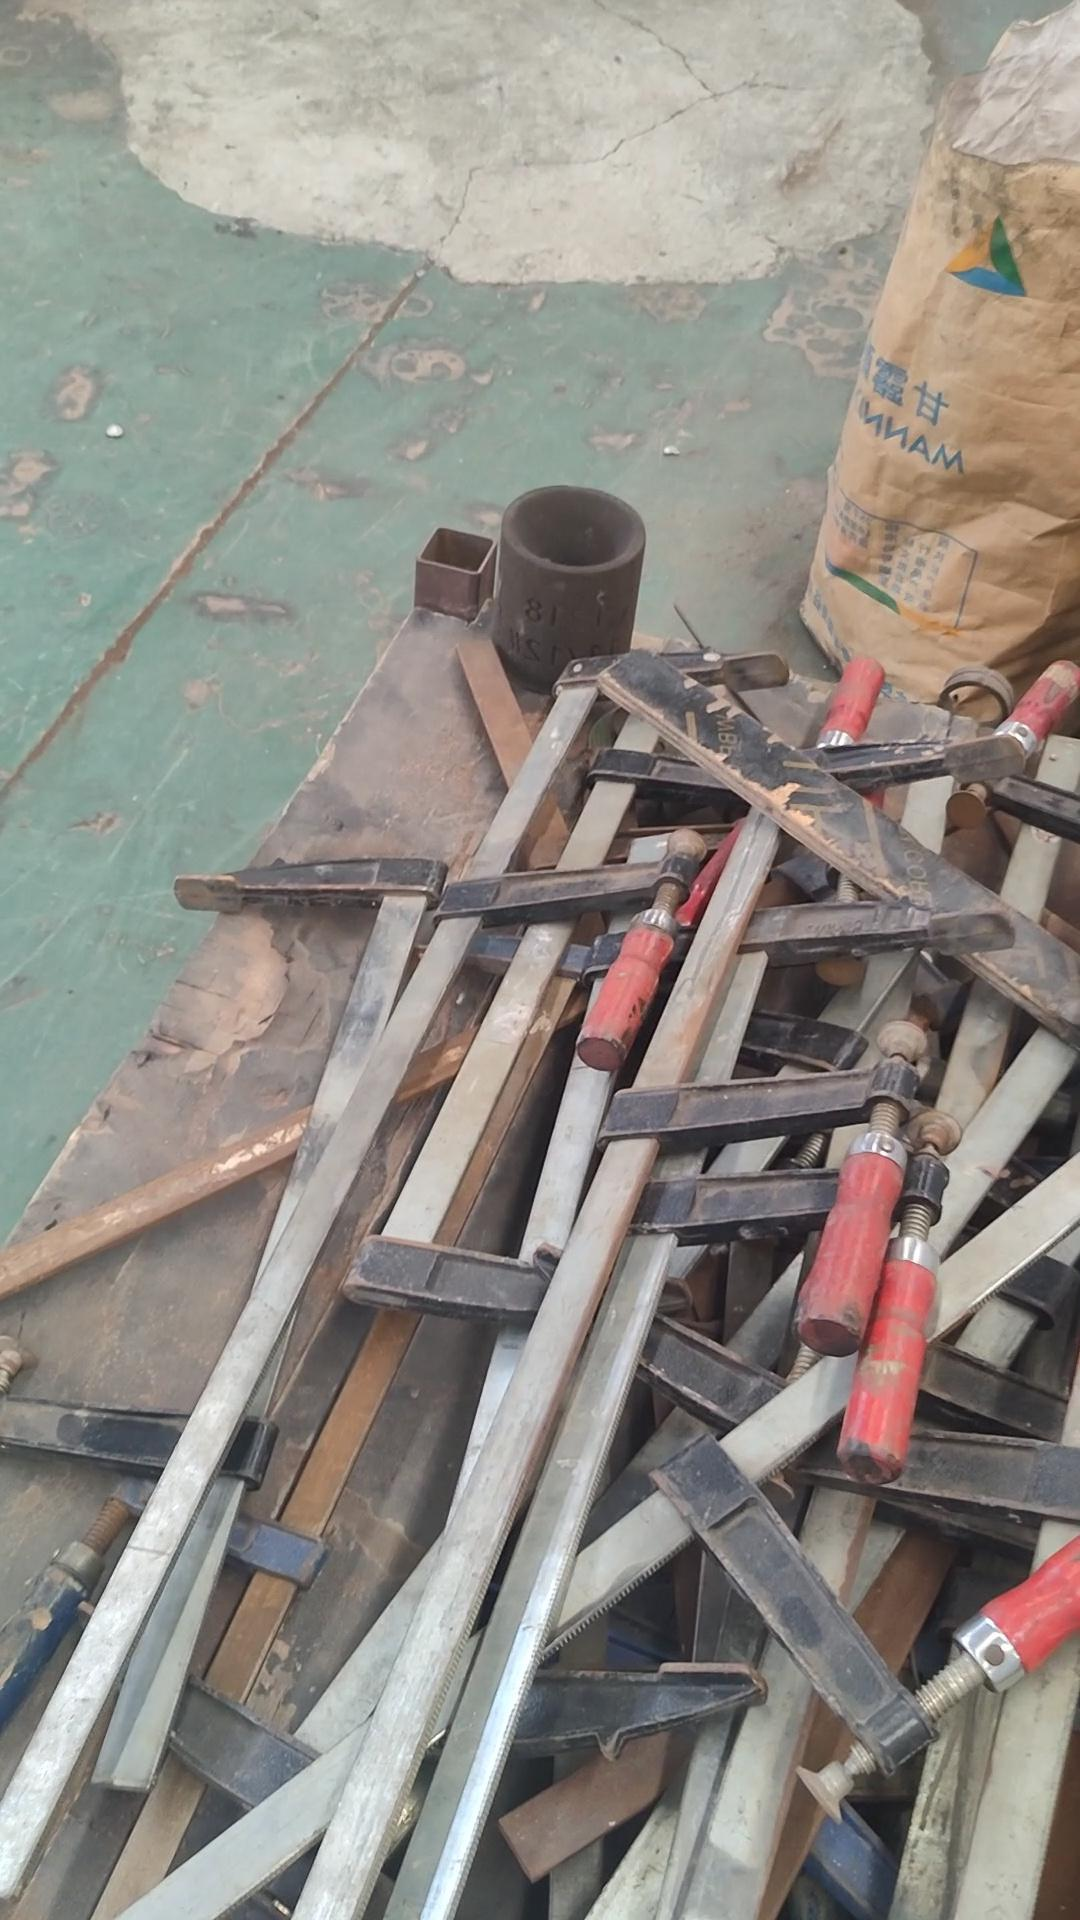pouring hole: (510, 487, 636, 568)
